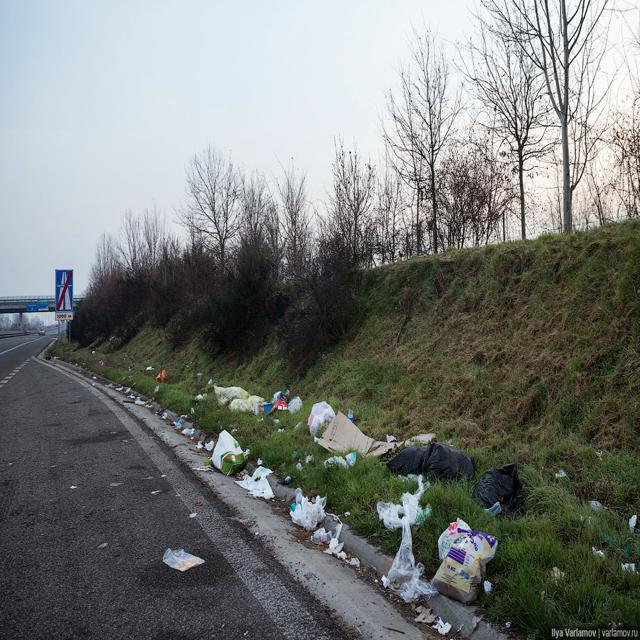lixeira: (111, 367, 201, 448), (376, 480, 431, 607), (308, 401, 395, 471), (434, 518, 499, 600), (206, 432, 274, 504), (291, 488, 348, 563), (210, 378, 302, 418), (388, 434, 473, 477), (471, 459, 524, 513), (162, 546, 204, 571)
